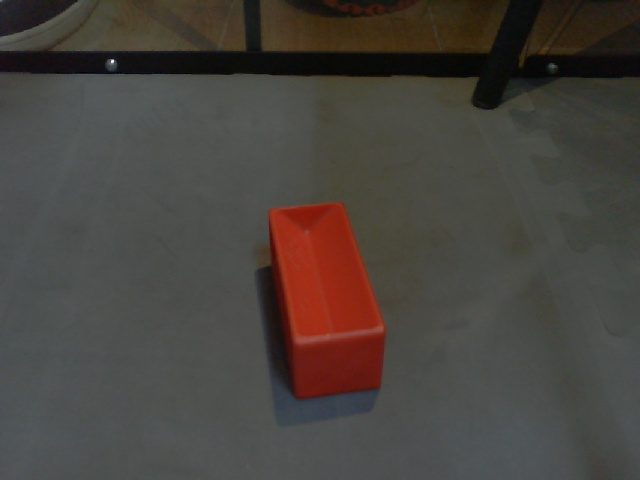RedSample: (264, 196, 389, 398)
